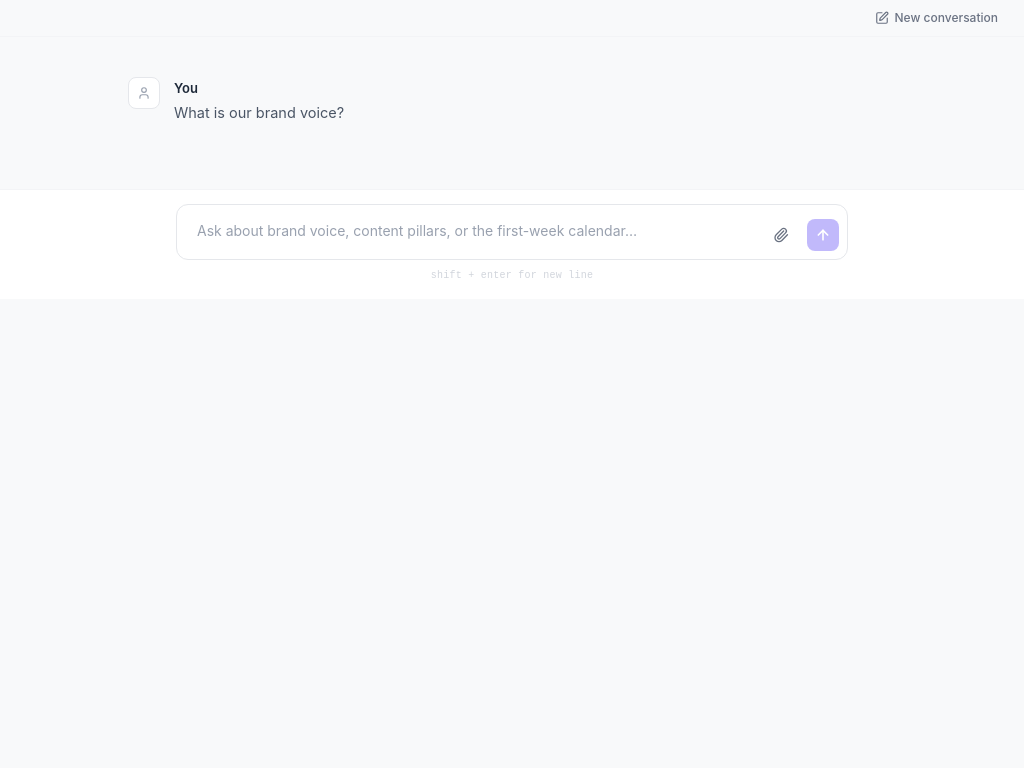
Test case: Homepage Chat UI › shows "Continue previous" after clicking New conversation, restores the prior thread on click
Expected: the text "What is our brand voice?" is shown, left=174, top=104, right=344, bottom=120
Click the button with test id "new-conversation-btn" at [936, 18], box left=864, top=6, right=1008, bottom=30
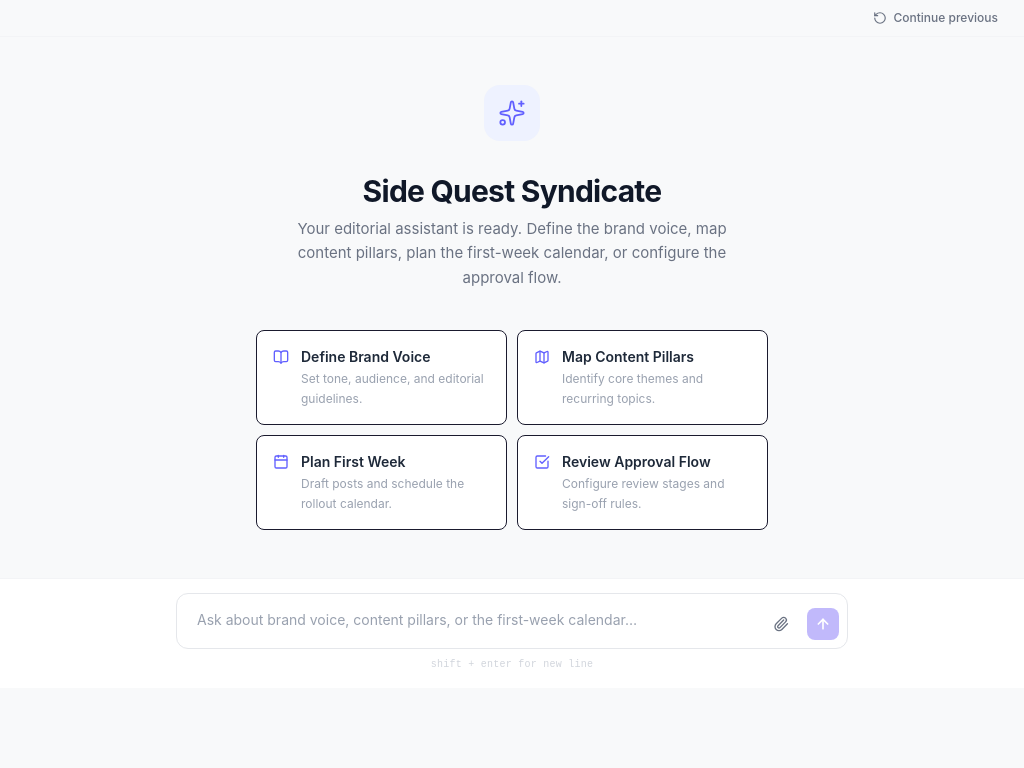
Now the text "What is our brand voice?" is gone
Now the button with test id "continue-previous-btn" is shown
Click the button with test id "continue-previous-btn" at [936, 18], box left=863, top=6, right=1008, bottom=30
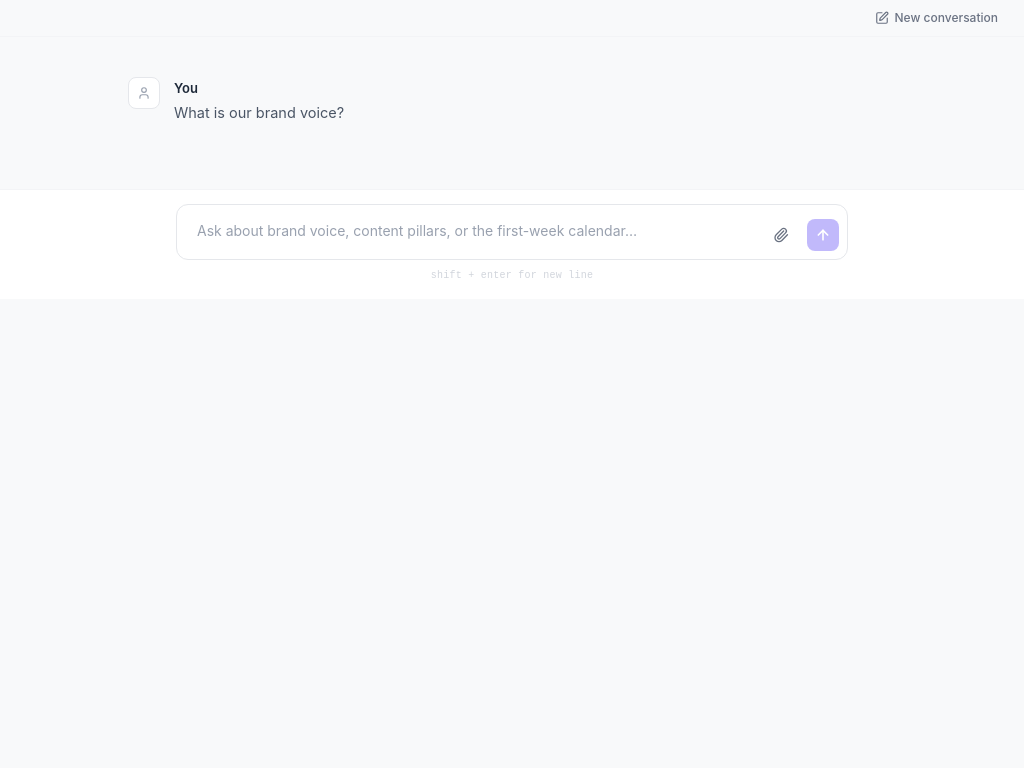
Now the text "What is our brand voice?" is shown, box left=174, top=104, right=344, bottom=120
Now the button with test id "new-conversation-btn" is shown, box left=864, top=6, right=1008, bottom=30
